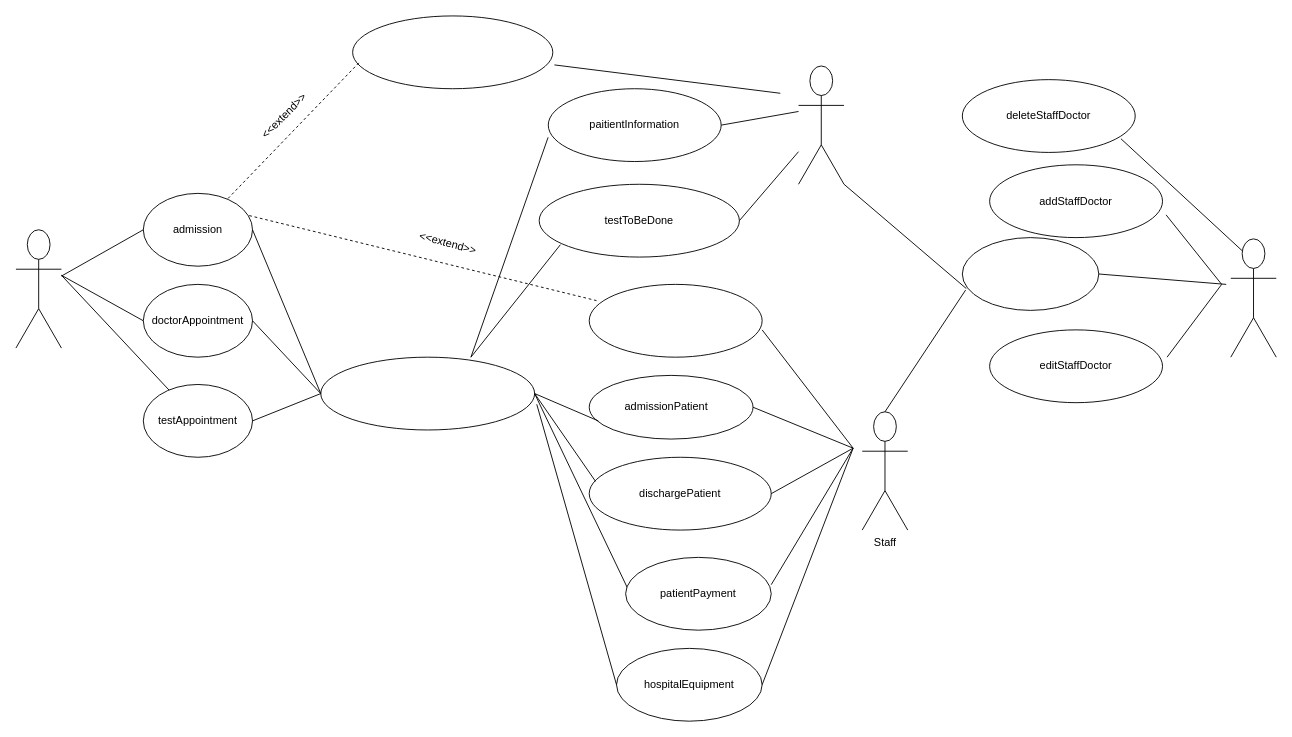
Image size: 1292x737. Some labels were removed from this diagram. The shapes that lost their labels are listed below. From the top down, each one's centre as x and y in pixels, then its label:
At (452,52): "undergoesOperation".
At (821,124): "Doctor".
At (38,288): "Patient".
At (1030,273): "paySalary".
At (1253,297): "Admin".
At (675,320): "isBedAvailable".
At (427,393): "Login".
